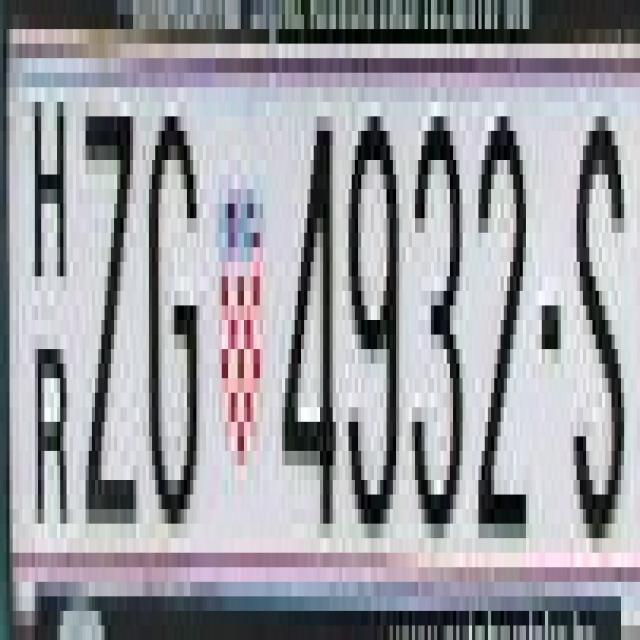2: (476, 87, 532, 553)
3: (409, 102, 469, 553)
4: (276, 72, 336, 524)
9: (342, 116, 399, 538)
G: (143, 87, 200, 509)
H: (28, 87, 73, 291)
S: (570, 102, 628, 553)
Z: (79, 72, 136, 552)
